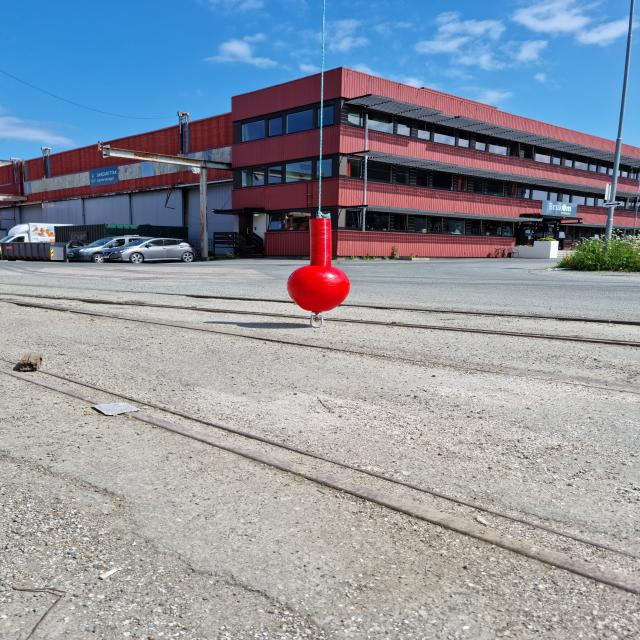red: (286, 218, 351, 312)
